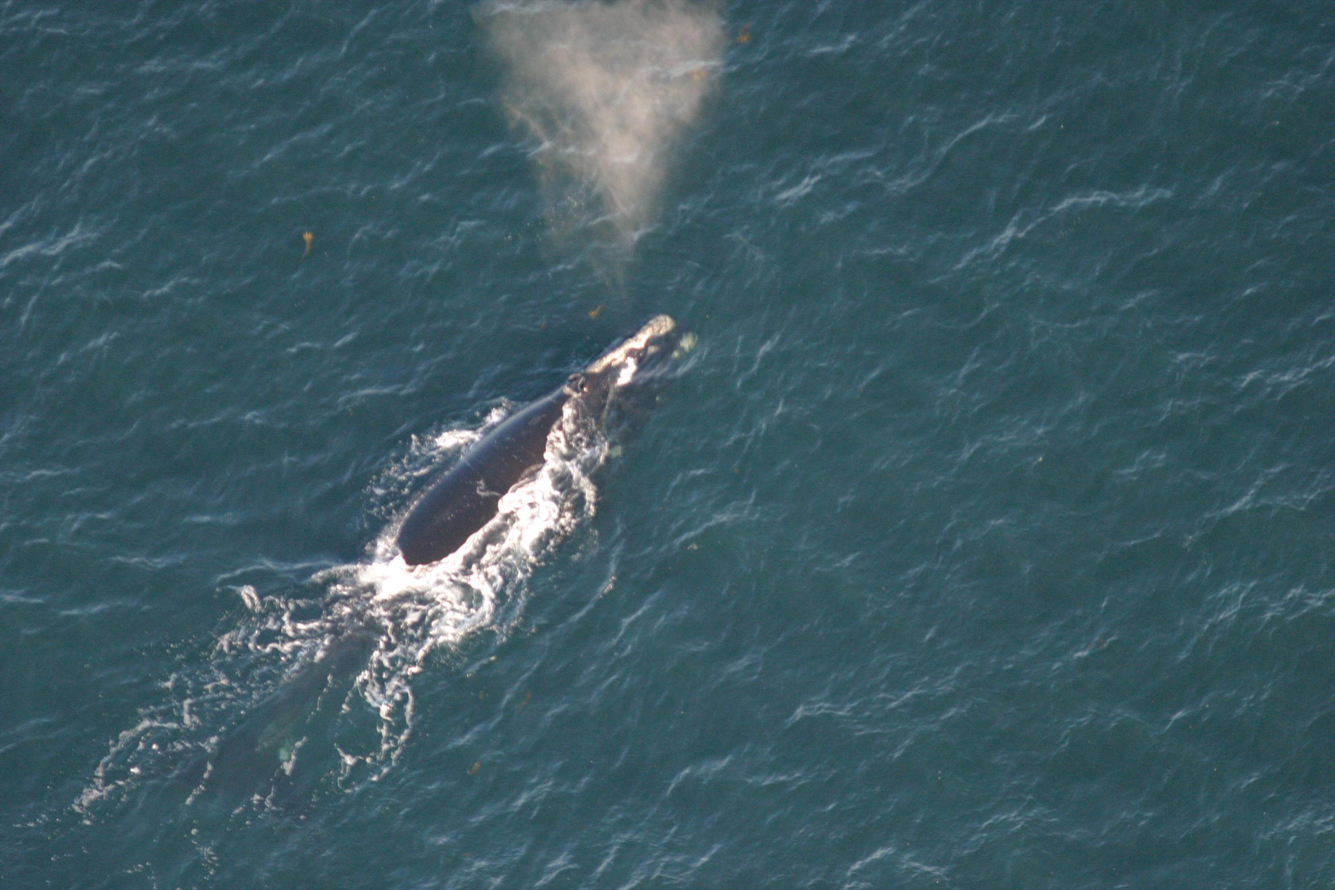whale: (179, 302, 711, 826)
